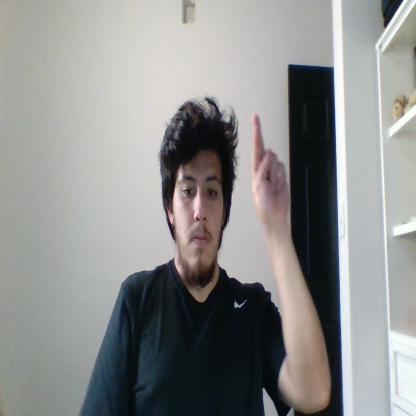R: (252, 115, 289, 227)
